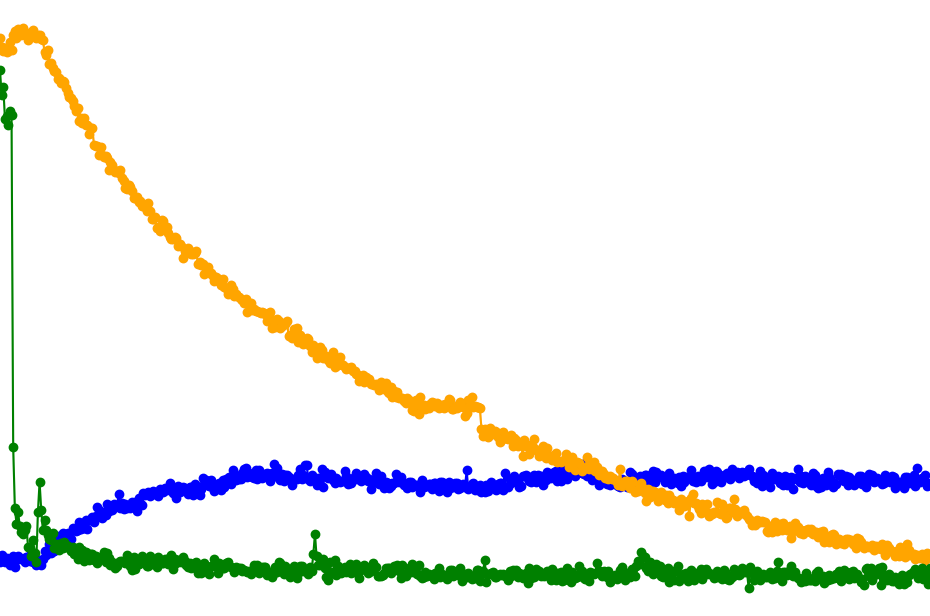CO2 Problem: (118, 0, 930, 616), (633, 0, 930, 616), (39, 0, 118, 616)
Condensation (CO2): (118, 0, 356, 616), (39, 0, 118, 616)
Low CO2: (277, 0, 930, 616), (118, 0, 356, 616), (39, 0, 118, 616)
Normal: (39, 0, 930, 616), (118, 0, 930, 616), (277, 0, 930, 616), (39, 0, 514, 616), (277, 0, 633, 616), (39, 0, 356, 616), (633, 0, 930, 616), (118, 0, 277, 616), (0, 0, 118, 616), (39, 0, 118, 616)
O2 Problem: (118, 0, 930, 616)
